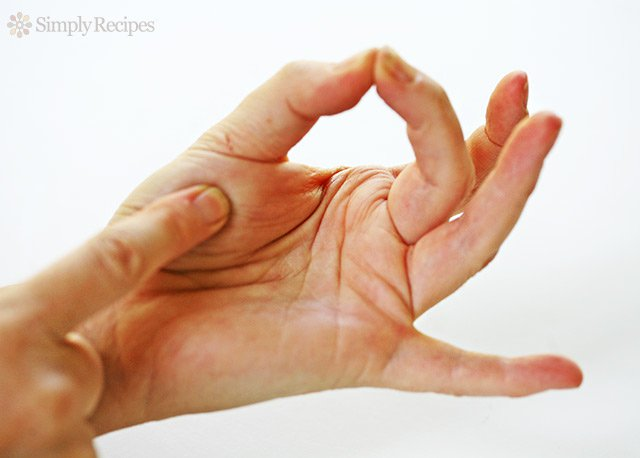finger: (8, 183, 238, 345), (414, 112, 573, 309), (373, 311, 618, 407), (375, 44, 473, 232), (453, 67, 531, 220)
